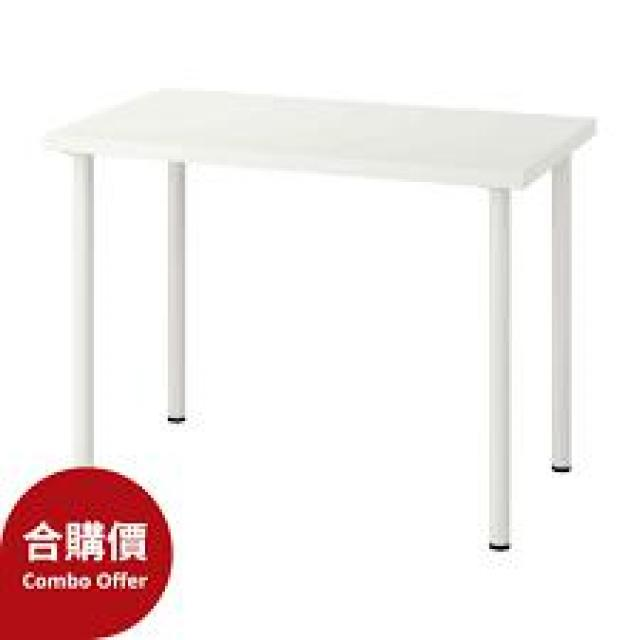table: (33, 44, 616, 553)
